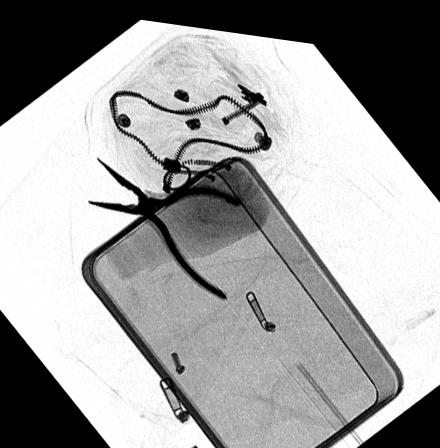Pliers: (86, 153, 241, 294)
